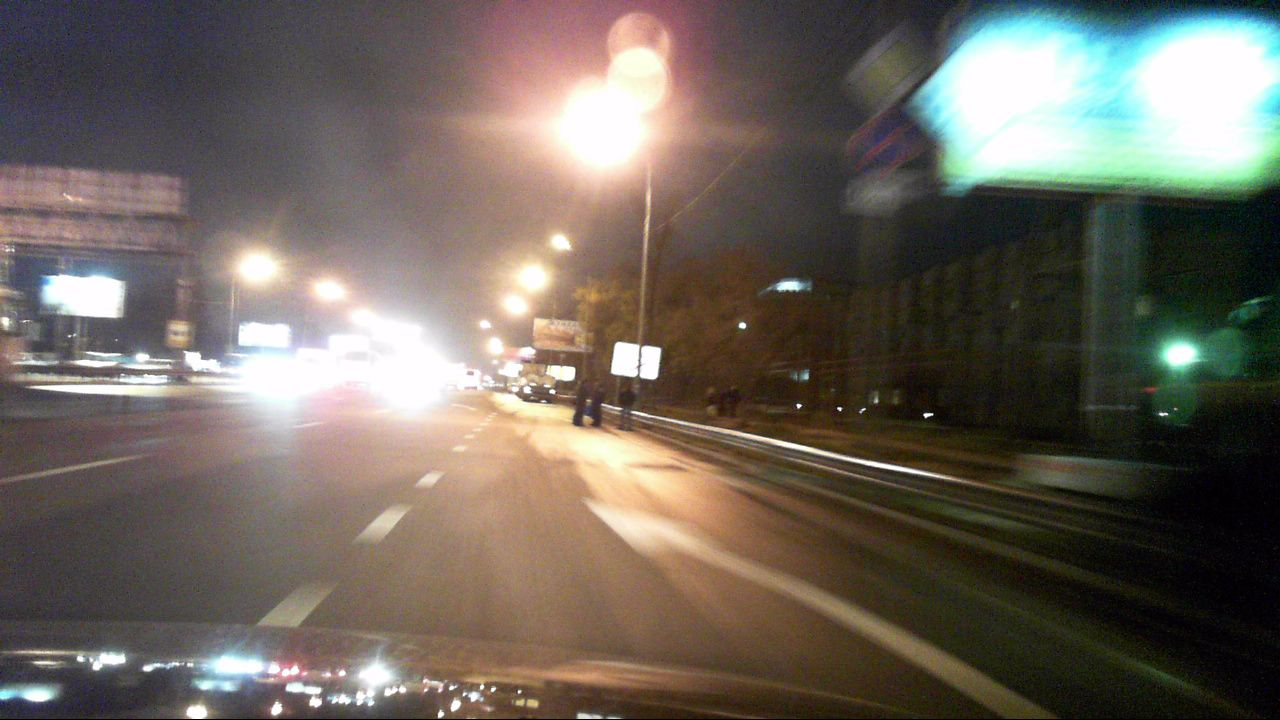No Parking: (852, 113, 912, 172)
